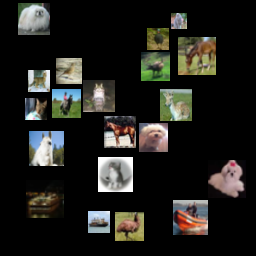bird: (115, 212, 144, 241), (56, 58, 82, 84), (147, 28, 169, 50)
cat: (98, 157, 133, 192), (25, 98, 47, 120), (28, 70, 50, 92), (171, 13, 187, 29)
deer: (160, 89, 192, 121), (141, 52, 170, 81)
dog: (208, 160, 246, 198), (18, 3, 50, 35), (139, 123, 168, 152)
frog: (83, 80, 115, 112)
ship: (26, 180, 64, 218), (173, 200, 208, 235), (88, 211, 110, 233)
